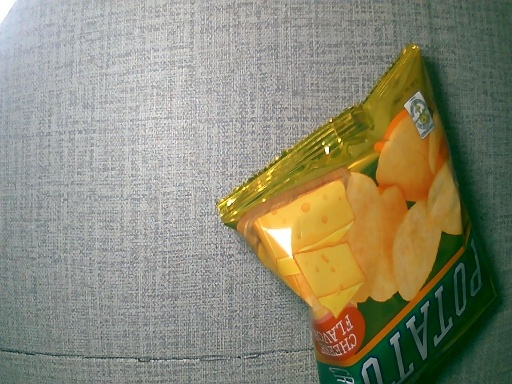plastic: (217, 53, 502, 384)
